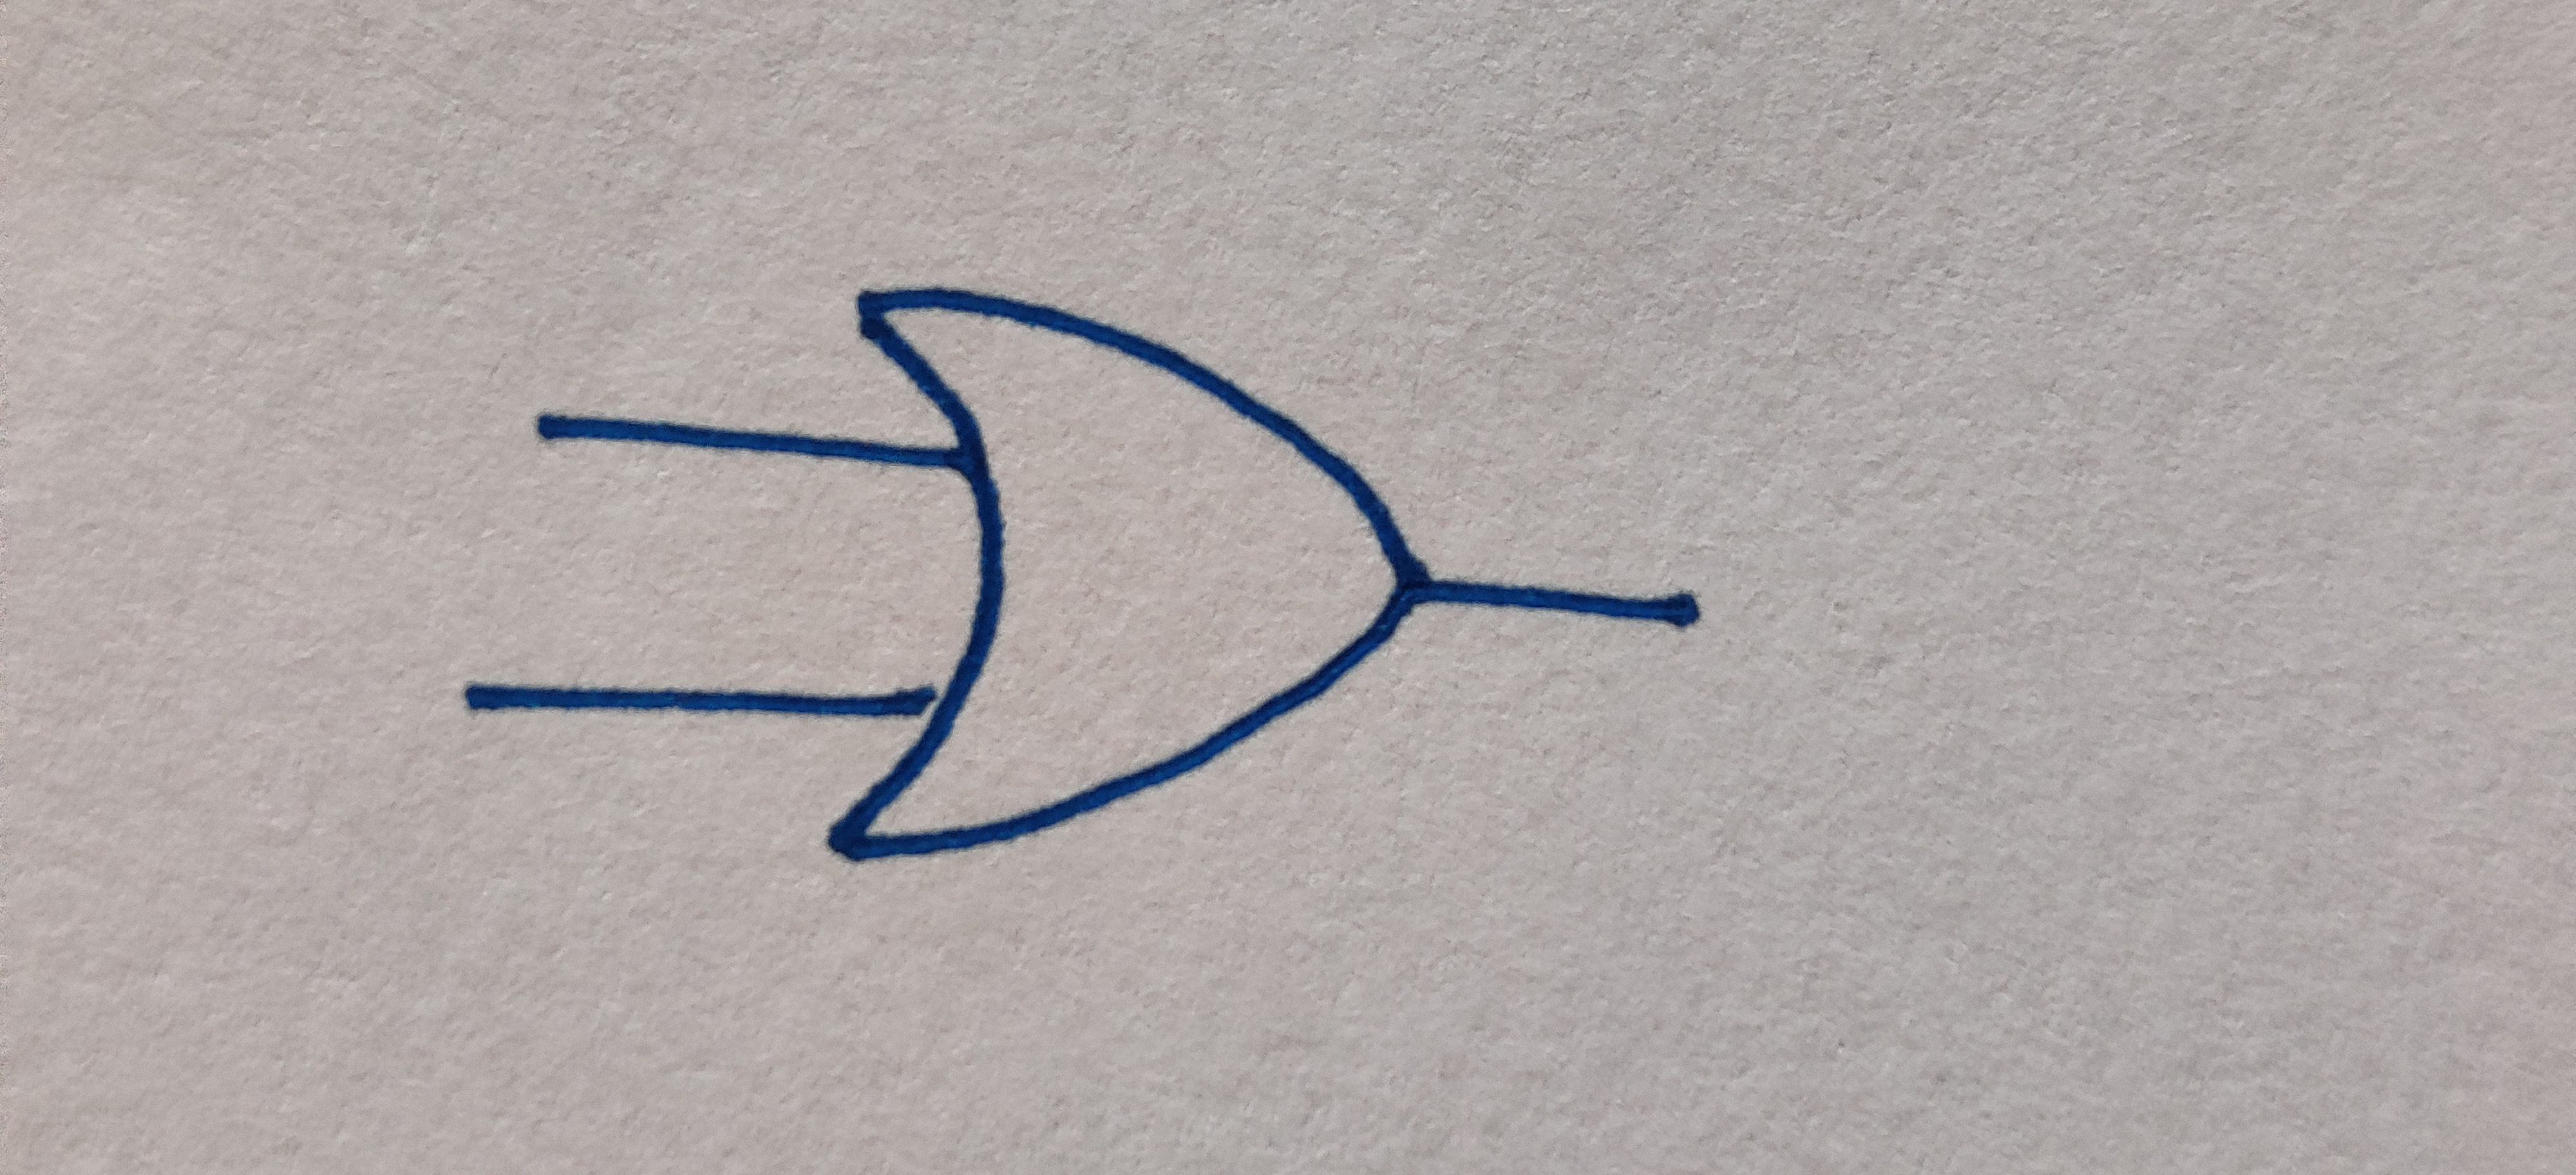or: (830, 289, 1424, 866)
